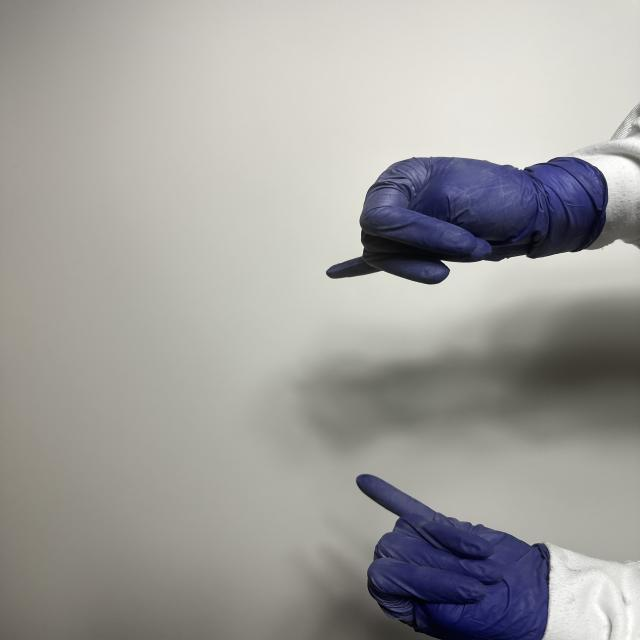gloves_contaminated: (327, 158, 609, 284), (356, 474, 550, 640)
